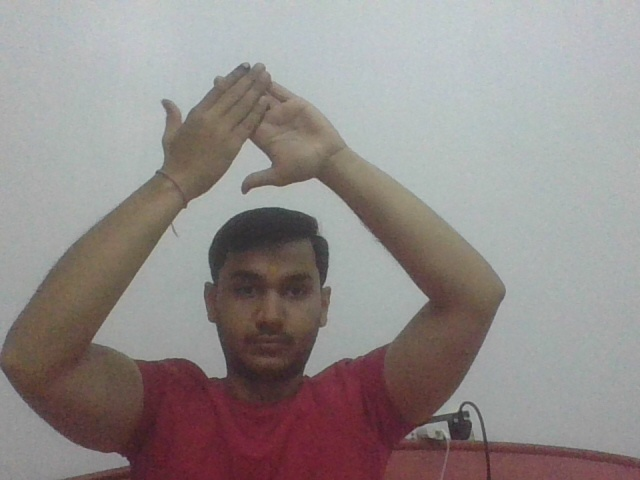H: (155, 59, 336, 196)
